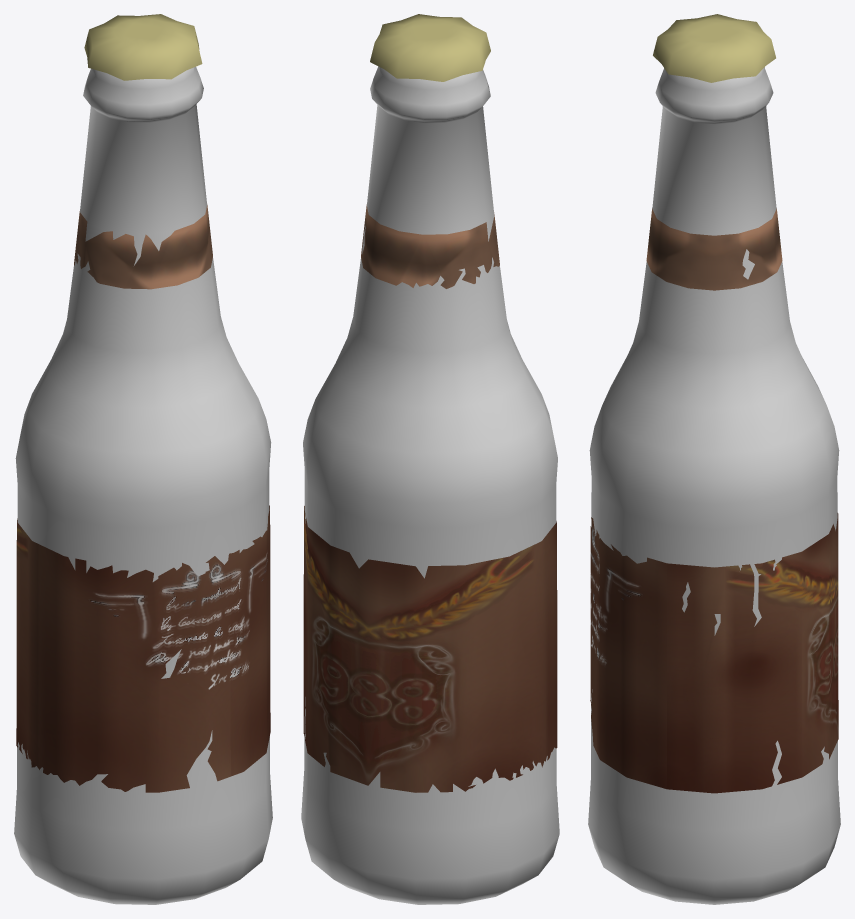
Rendered from beerFINISHED.fbx.
3 renders of one model, left to right at view 1: azimuth 30°, elevation 25°; view 2: azimuth 150°, elevation 25°; view 3: azimuth 270°, elevation 25°, orthographic.
Visible parts, largest first — view 1: Cube, Cube.003, Cube.005, Cube.002; view 2: Cube, Cube.003, Cube.005, Cube.002; view 3: Cube, Cube.003, Cube.005, Cube.002.
Boxes of the visible parts, x1,y1,x2,y2 form: Cube: (14, 67, 272, 904); Cube.003: (16, 505, 270, 792); Cube.005: (74, 205, 212, 289); Cube.002: (84, 14, 202, 80); Cube: (301, 66, 559, 904); Cube.003: (303, 506, 557, 792); Cube.005: (361, 204, 499, 288); Cube.002: (370, 14, 490, 81); Cube: (588, 67, 840, 904); Cube.003: (590, 513, 838, 793); Cube.005: (646, 208, 782, 290); Cube.002: (653, 14, 775, 82).
Bounding box in the file's own units: 117 × 407 × 113.
4 materials, 2 textured.
